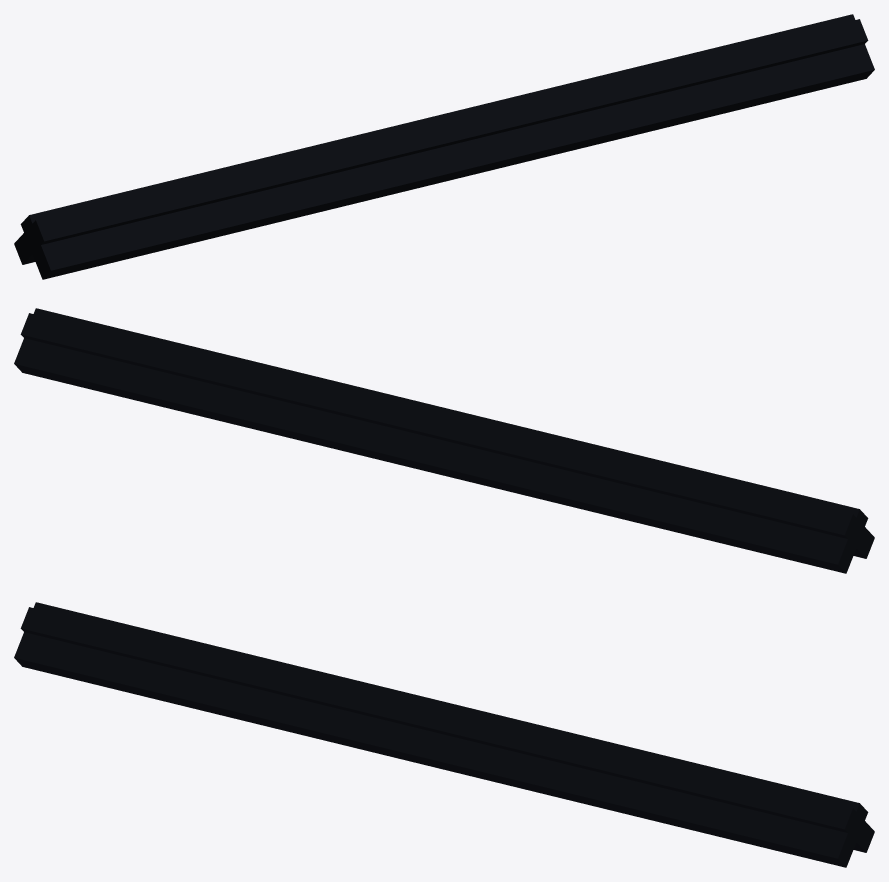
Rendered from SM_Bld_Roof_Slate_Ridge_4m.glb.
The picture shows the model from 3 angles, top to bottom: view 1: azimuth 30°, elevation 25°; view 2: azimuth 150°, elevation 25°; view 3: azimuth 330°, elevation 25°; orthographic projection.
Parts seen in each view (by area): view 1: SM_Bld_Roof_Slate_Ridge_4m; view 2: SM_Bld_Roof_Slate_Ridge_4m; view 3: SM_Bld_Roof_Slate_Ridge_4m.
Boxes of the visible parts, x1,y1,x2,y2 form: SM_Bld_Roof_Slate_Ridge_4m: [14, 14, 874, 279]; SM_Bld_Roof_Slate_Ridge_4m: [14, 308, 874, 573]; SM_Bld_Roof_Slate_Ridge_4m: [14, 602, 874, 867].
Bounding box in the file's own units: 4 × 0.2546 × 0.3111.
1 material, 1 textured.
